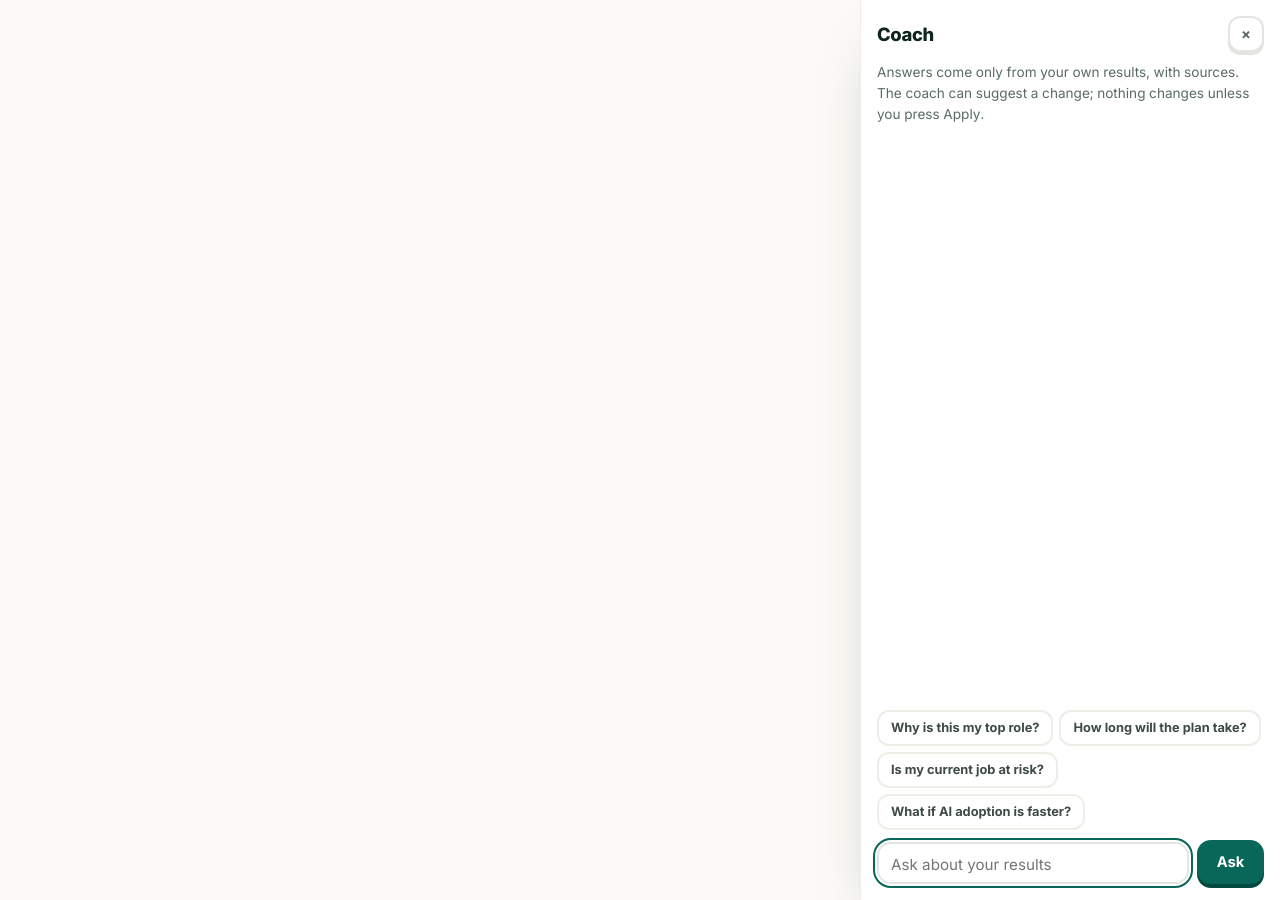
Test: Coach › shows a corrected answer with the self-check note and what was removed from the question
Type "Call 012-345 6789, which job?" into the text box labelled "Ask about your results".
click(1033, 863); type("Call 012-345 6789, which job?")  # box [877, 842, 1189, 884]
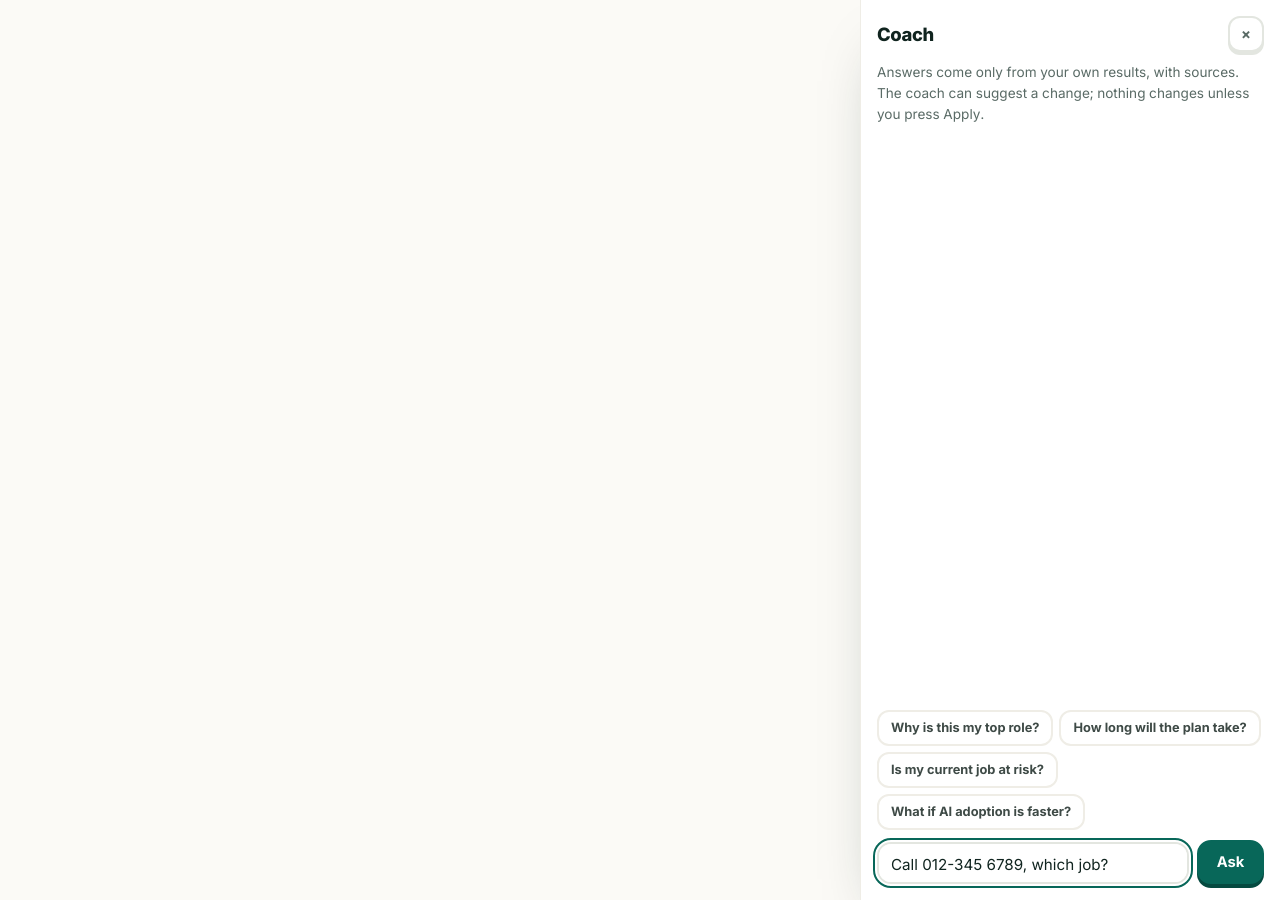
Click the button "Ask".
click(1231, 862)  # box [1197, 840, 1264, 884]
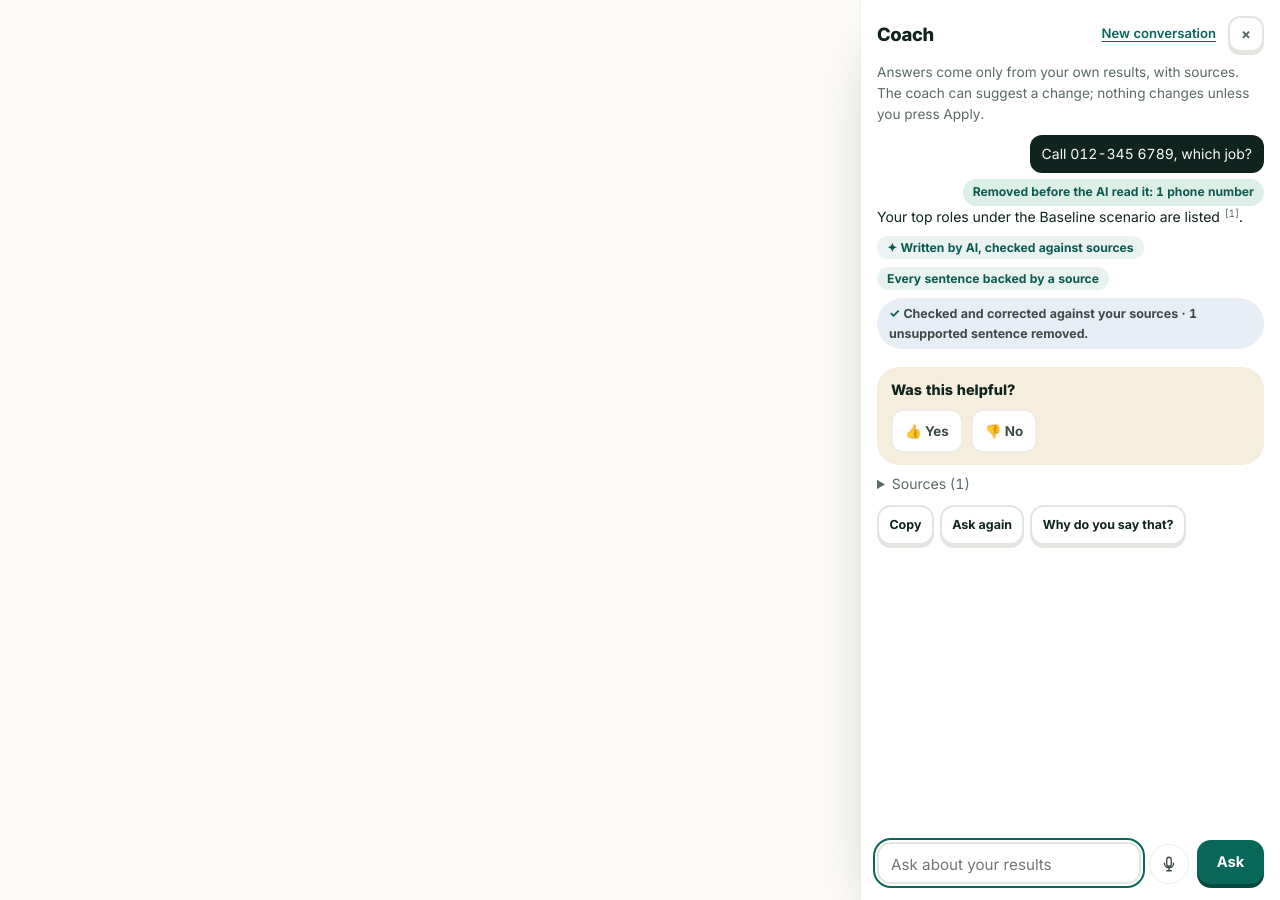
Expected: the text "Your top roles under the Baseline scenario are listed" is shown, [877, 208, 1224, 225]
Expected: the text "Checked and corrected against your sources" is shown, [903, 306, 1178, 321]
Expected: the text "1 unsupported sentence removed" is shown, [889, 306, 1197, 341]
